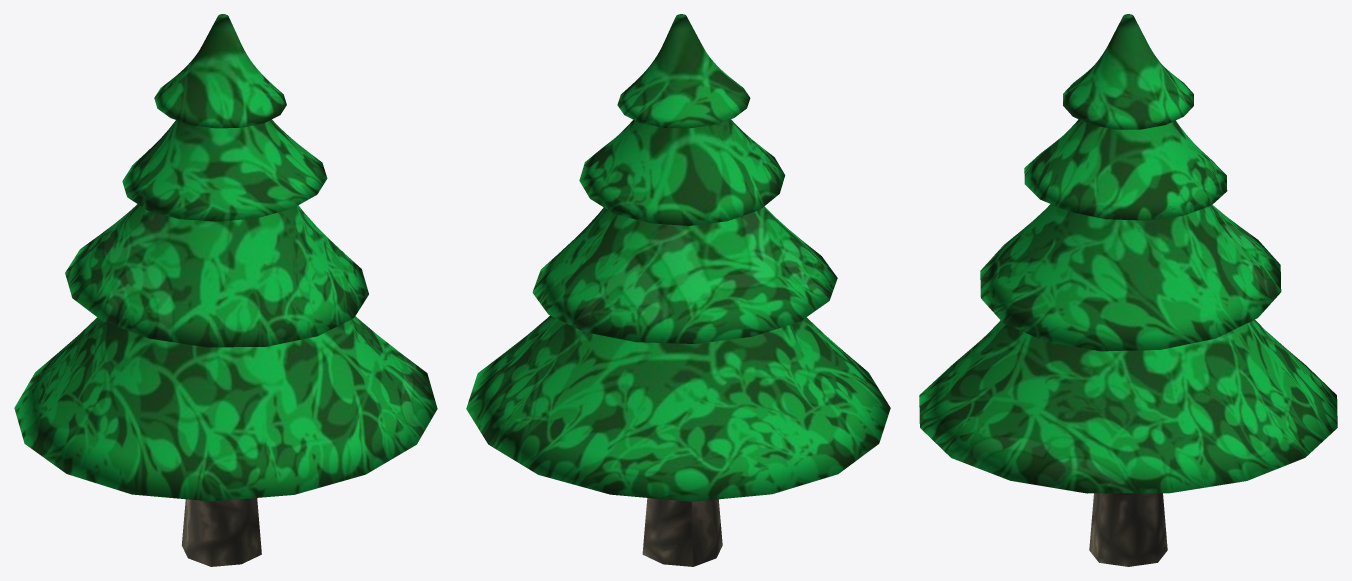
Rendered from pineTree.obj.
The picture shows the model from 3 angles, left to right: view 1: azimuth 30°, elevation 25°; view 2: azimuth 150°, elevation 25°; view 3: azimuth 270°, elevation 25°; orthographic projection.
Visible parts, largest first — view 1: Cube_Cube.002; view 2: Cube_Cube.002; view 3: Cube_Cube.002.
Boxes of the visible parts, left/top/right/bottom form: Cube_Cube.002: left=14, top=14, right=437, bottom=566; Cube_Cube.002: left=466, top=14, right=890, bottom=566; Cube_Cube.002: left=919, top=14, right=1337, bottom=566.
Bounding box in the file's own units: 4.03 × 5.7 × 4.03.
Materials: 1 (1 with a texture image).
